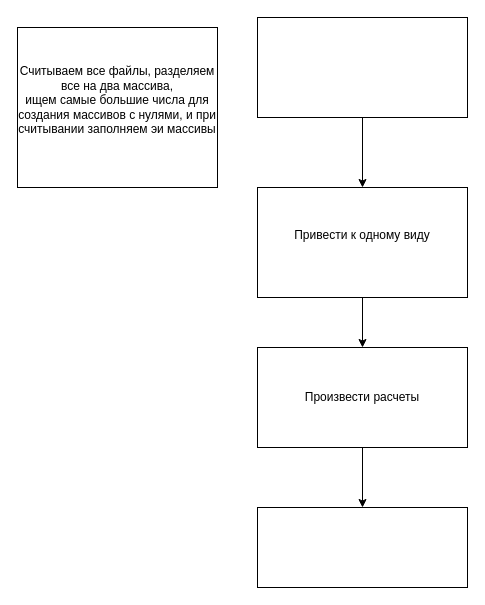
Image size: 485x605. Some labels were removed from this diagram. Here are the shapes that lost their labels. From the top down, the box of each, then its label:
(256, 16, 468, 118): Считать данные
(256, 506, 468, 588): Вывести в файл
